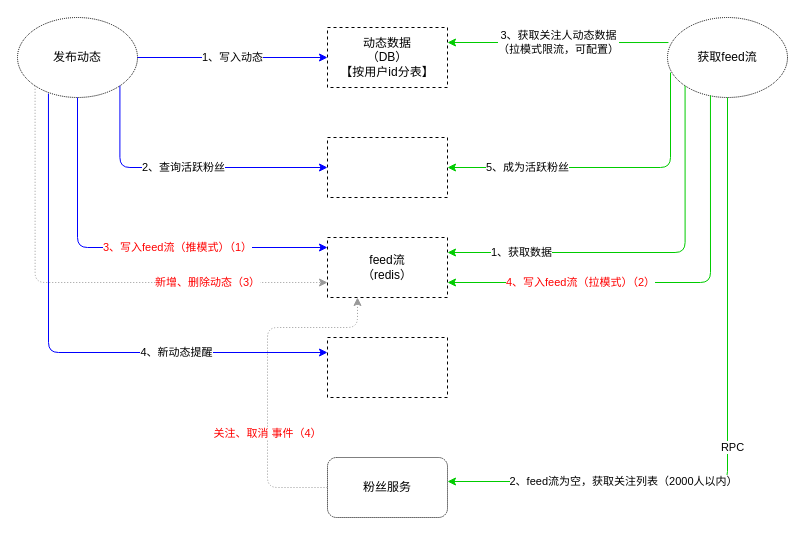
This 805x535 diagram has some shape labels left out. The box of each missing label's shape, as (x1, y1, x2, y2) in pixels:
新动态提醒 （redis）: (326, 336, 448, 398)
活跃粉丝 （redis）: (326, 136, 448, 198)
